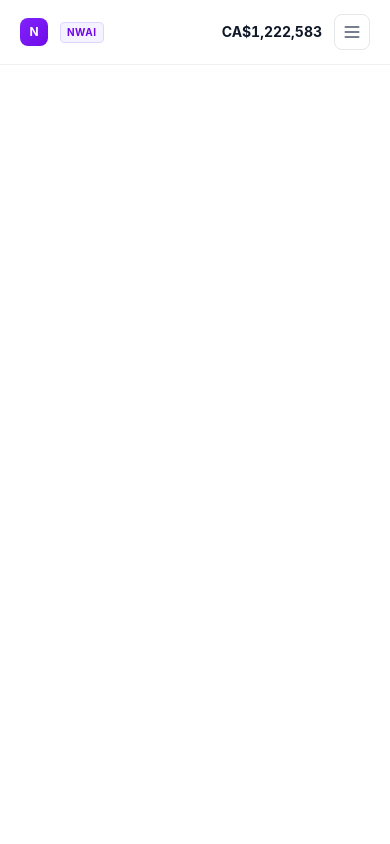
Test: MvpTopNav phone header and drawer › opens a drawer with aligned header, active Income row, section labels, and pinned footer
This screenshot has width=390, height=844.
Step 1. Click the button named "Menu" → (352,32), box top-left (334, 14), bottom-right (370, 50)
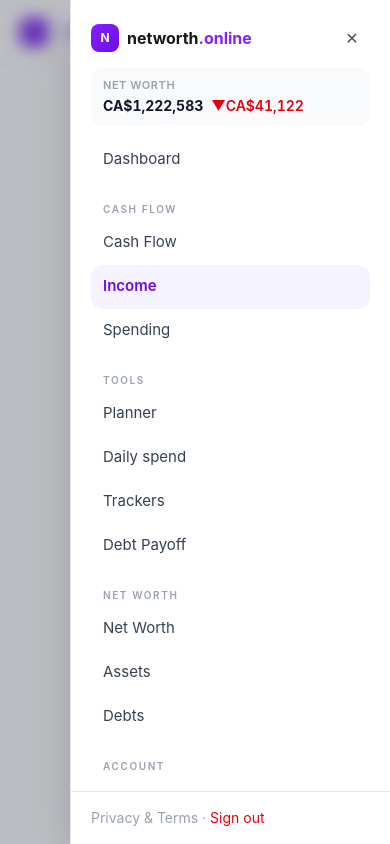
Expected: the element that starts with "networth" is shown
Expected: the text "Privacy & Terms" is shown, top-left (91, 809), bottom-right (198, 826)
Expected: the text "Sign out" is shown, top-left (210, 808), bottom-right (264, 828)
